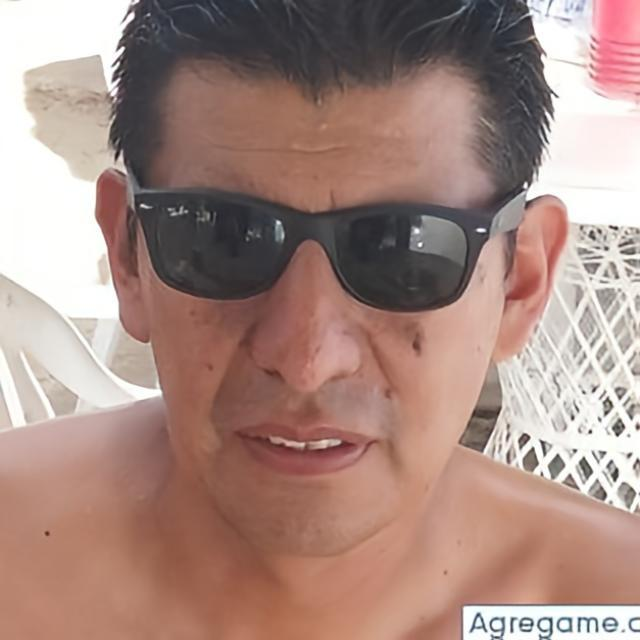disgust: (144, 70, 506, 556)
